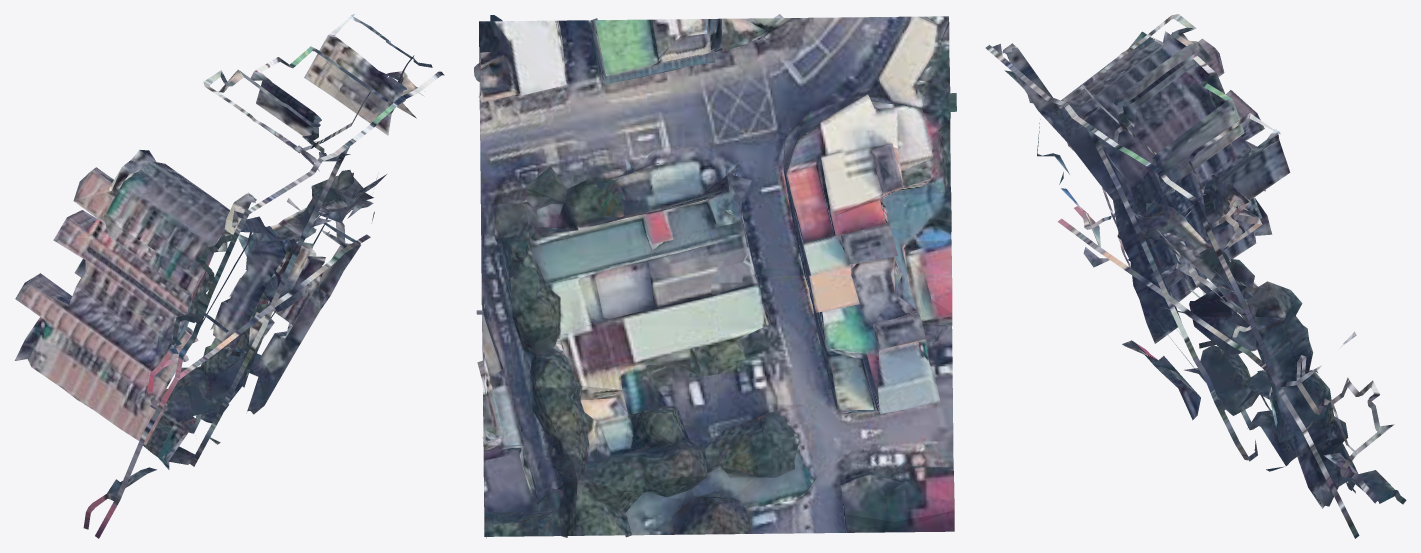
3 renders of one model, left to right at view 1: azimuth 30°, elevation 25°; view 2: azimuth 150°, elevation 25°; view 3: azimuth 270°, elevation 25°, orthographic. The views are drawn at different scales.
Size of the model in its own units: 83.25 by 80.74 by 70.28.
Materials: 1 (1 with a texture image).
